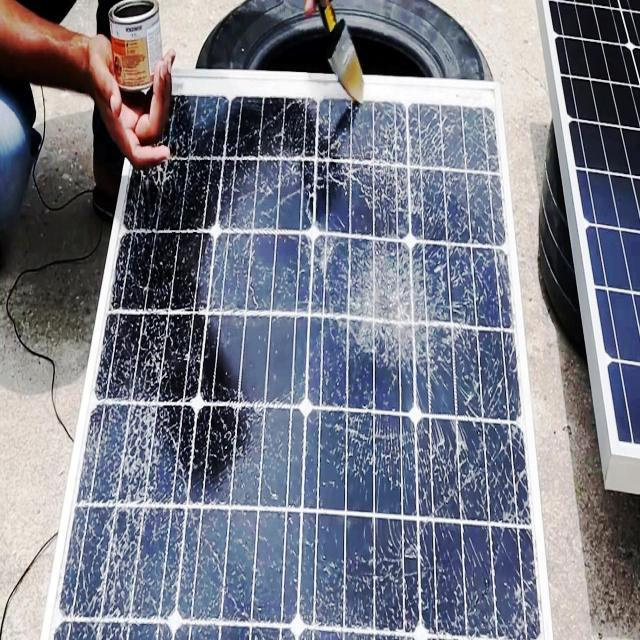faulty: (50, 64, 544, 636)
no faulty: (545, 2, 640, 449)
